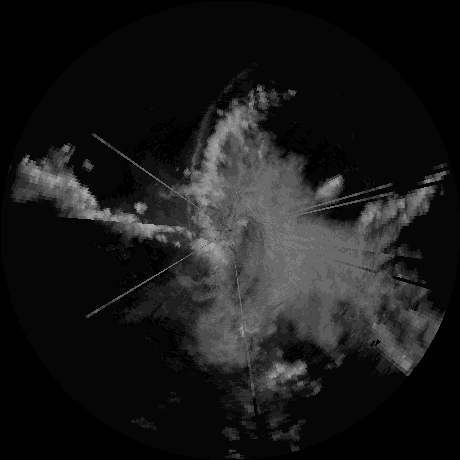frontgust: (191, 109, 212, 168), (185, 199, 197, 231)
